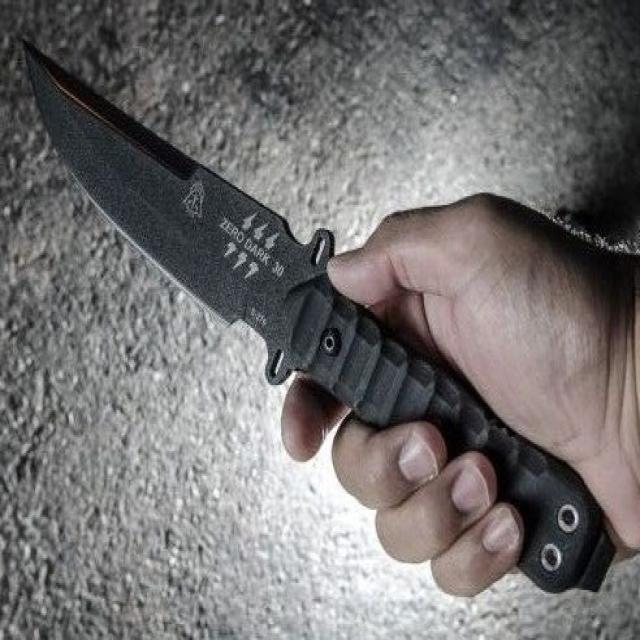knife: (21, 26, 614, 602)
